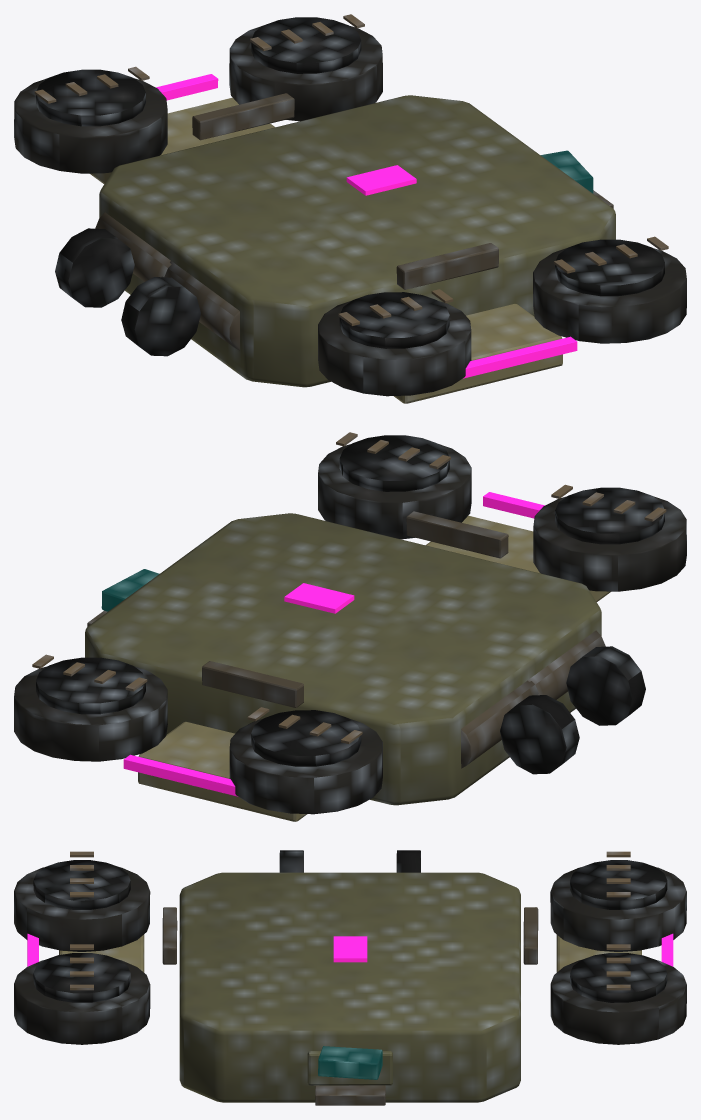
Rendered from carryall.glb.
3 views of the same model, one above another, from view 1: azimuth 30°, elevation 25°; view 2: azimuth 150°, elevation 25°; view 3: azimuth 270°, elevation 25° (orthographic). The views are drawn at different scales.
Parts seen in each view (by area): view 1: Sandwar3D; view 2: Sandwar3D; view 3: Sandwar3D.
Part boxes in pixels (x1,y1,x2,y2): Sandwar3D: (14, 14, 686, 403); Sandwar3D: (14, 432, 686, 821); Sandwar3D: (14, 850, 686, 1105).
Size of the model in its own units: 2.09 by 0.559 by 2.76.
Materials: 8 (7 with a texture image).
